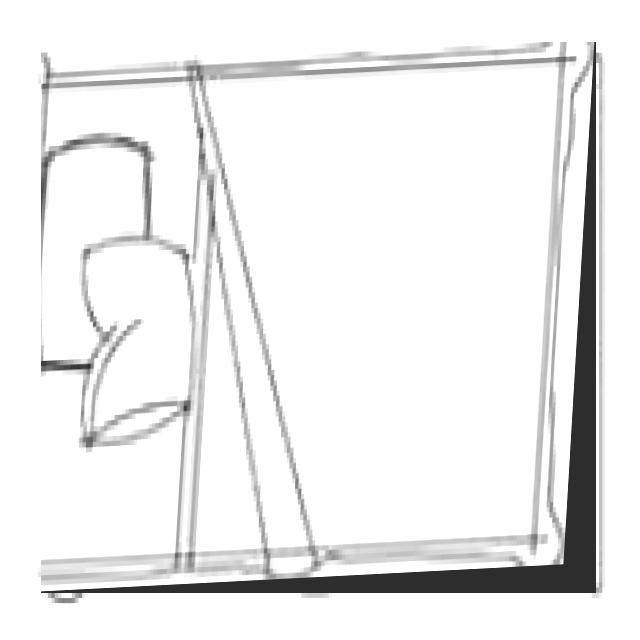bed: (41, 42, 596, 593)
